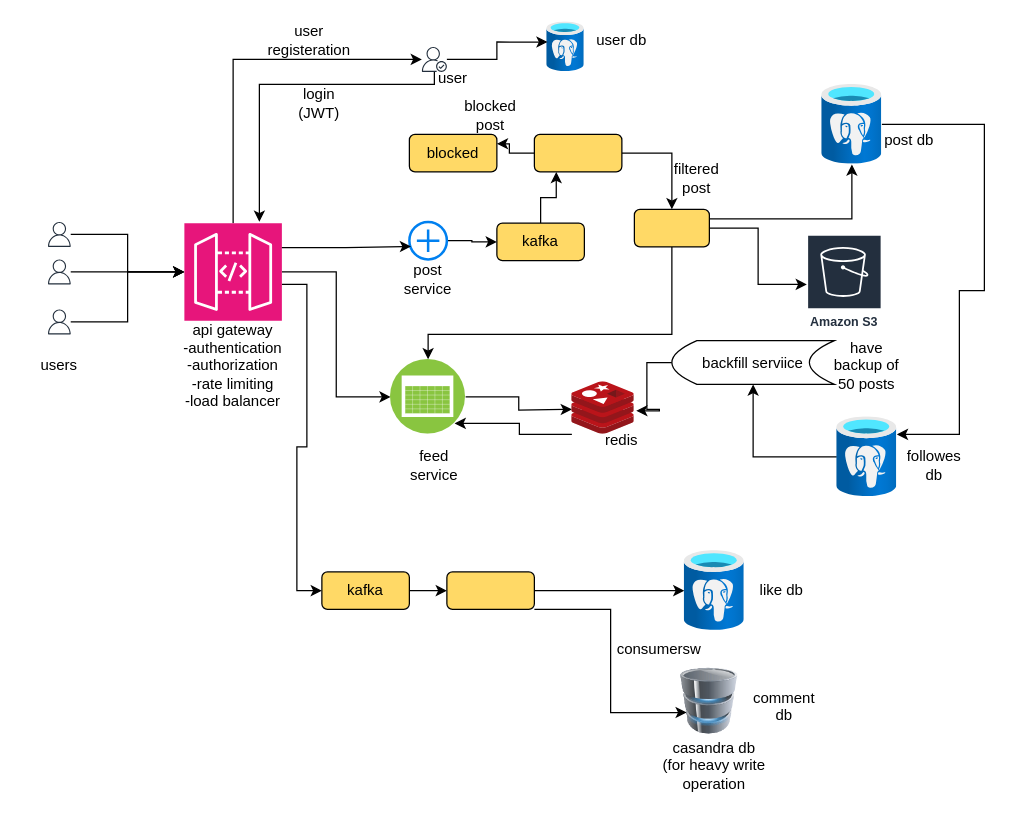
This 1016x814 diagram has some shape labels left out. The centre of each missing label's shape, as x and y in pixels:
consumer: pixel 671 227
msg queue: pixel 490 590
notification: pixel 577 152
